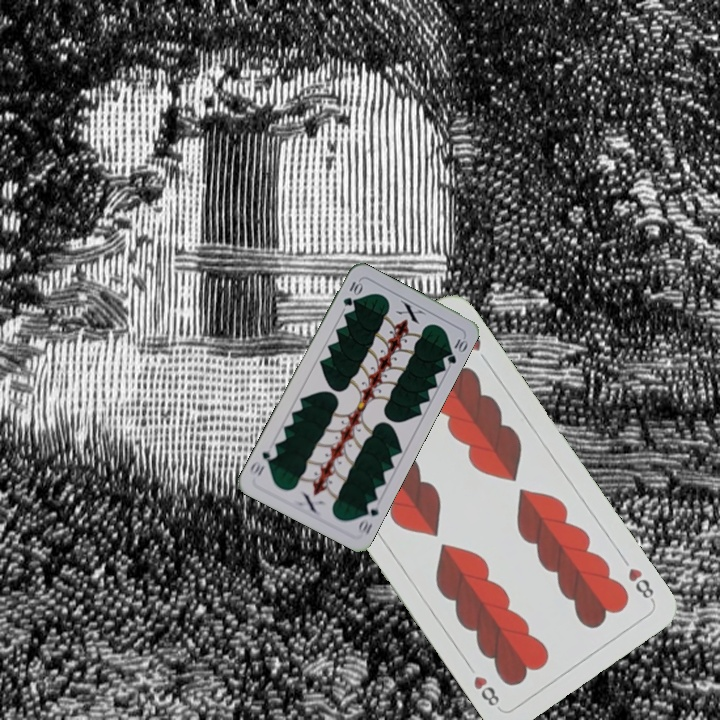G10: (353, 497, 382, 537), (339, 276, 365, 309)
H8: (624, 564, 657, 605)
